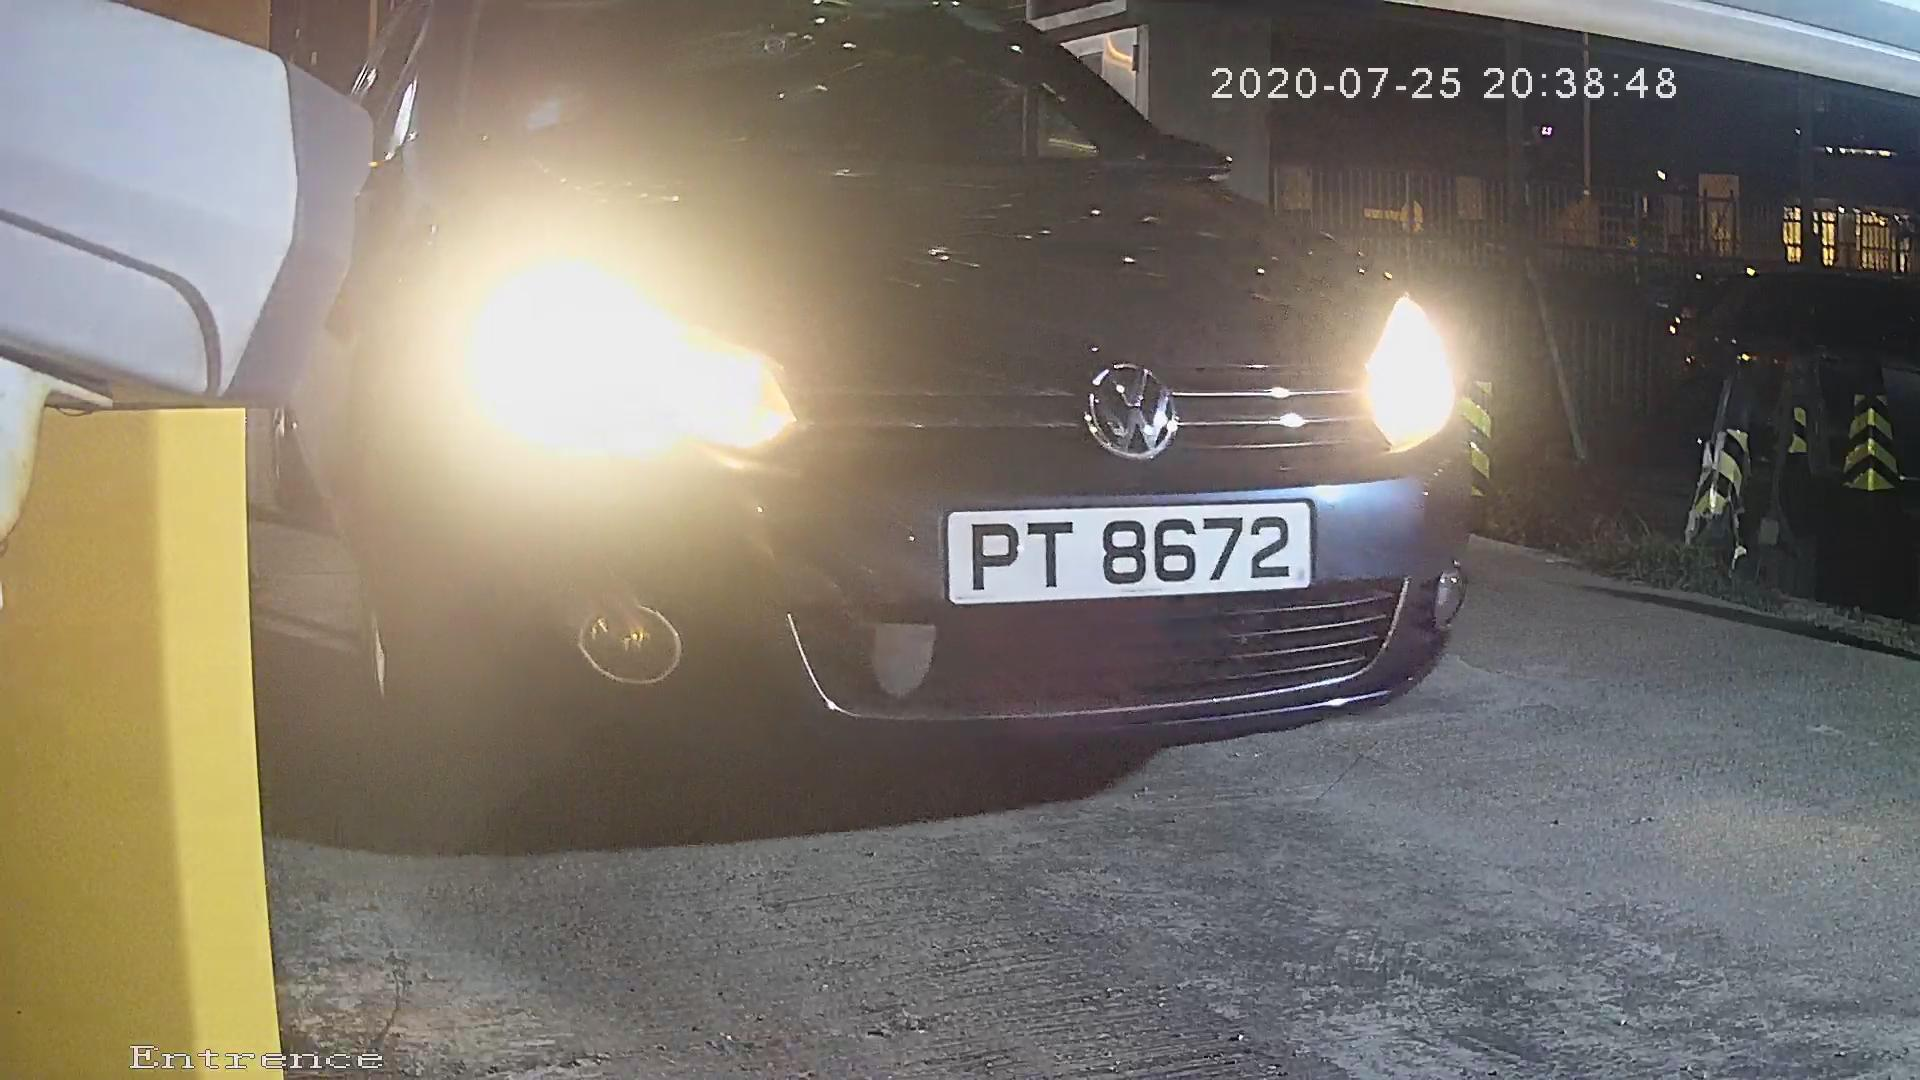privatecar: (309, 5, 1535, 855)
